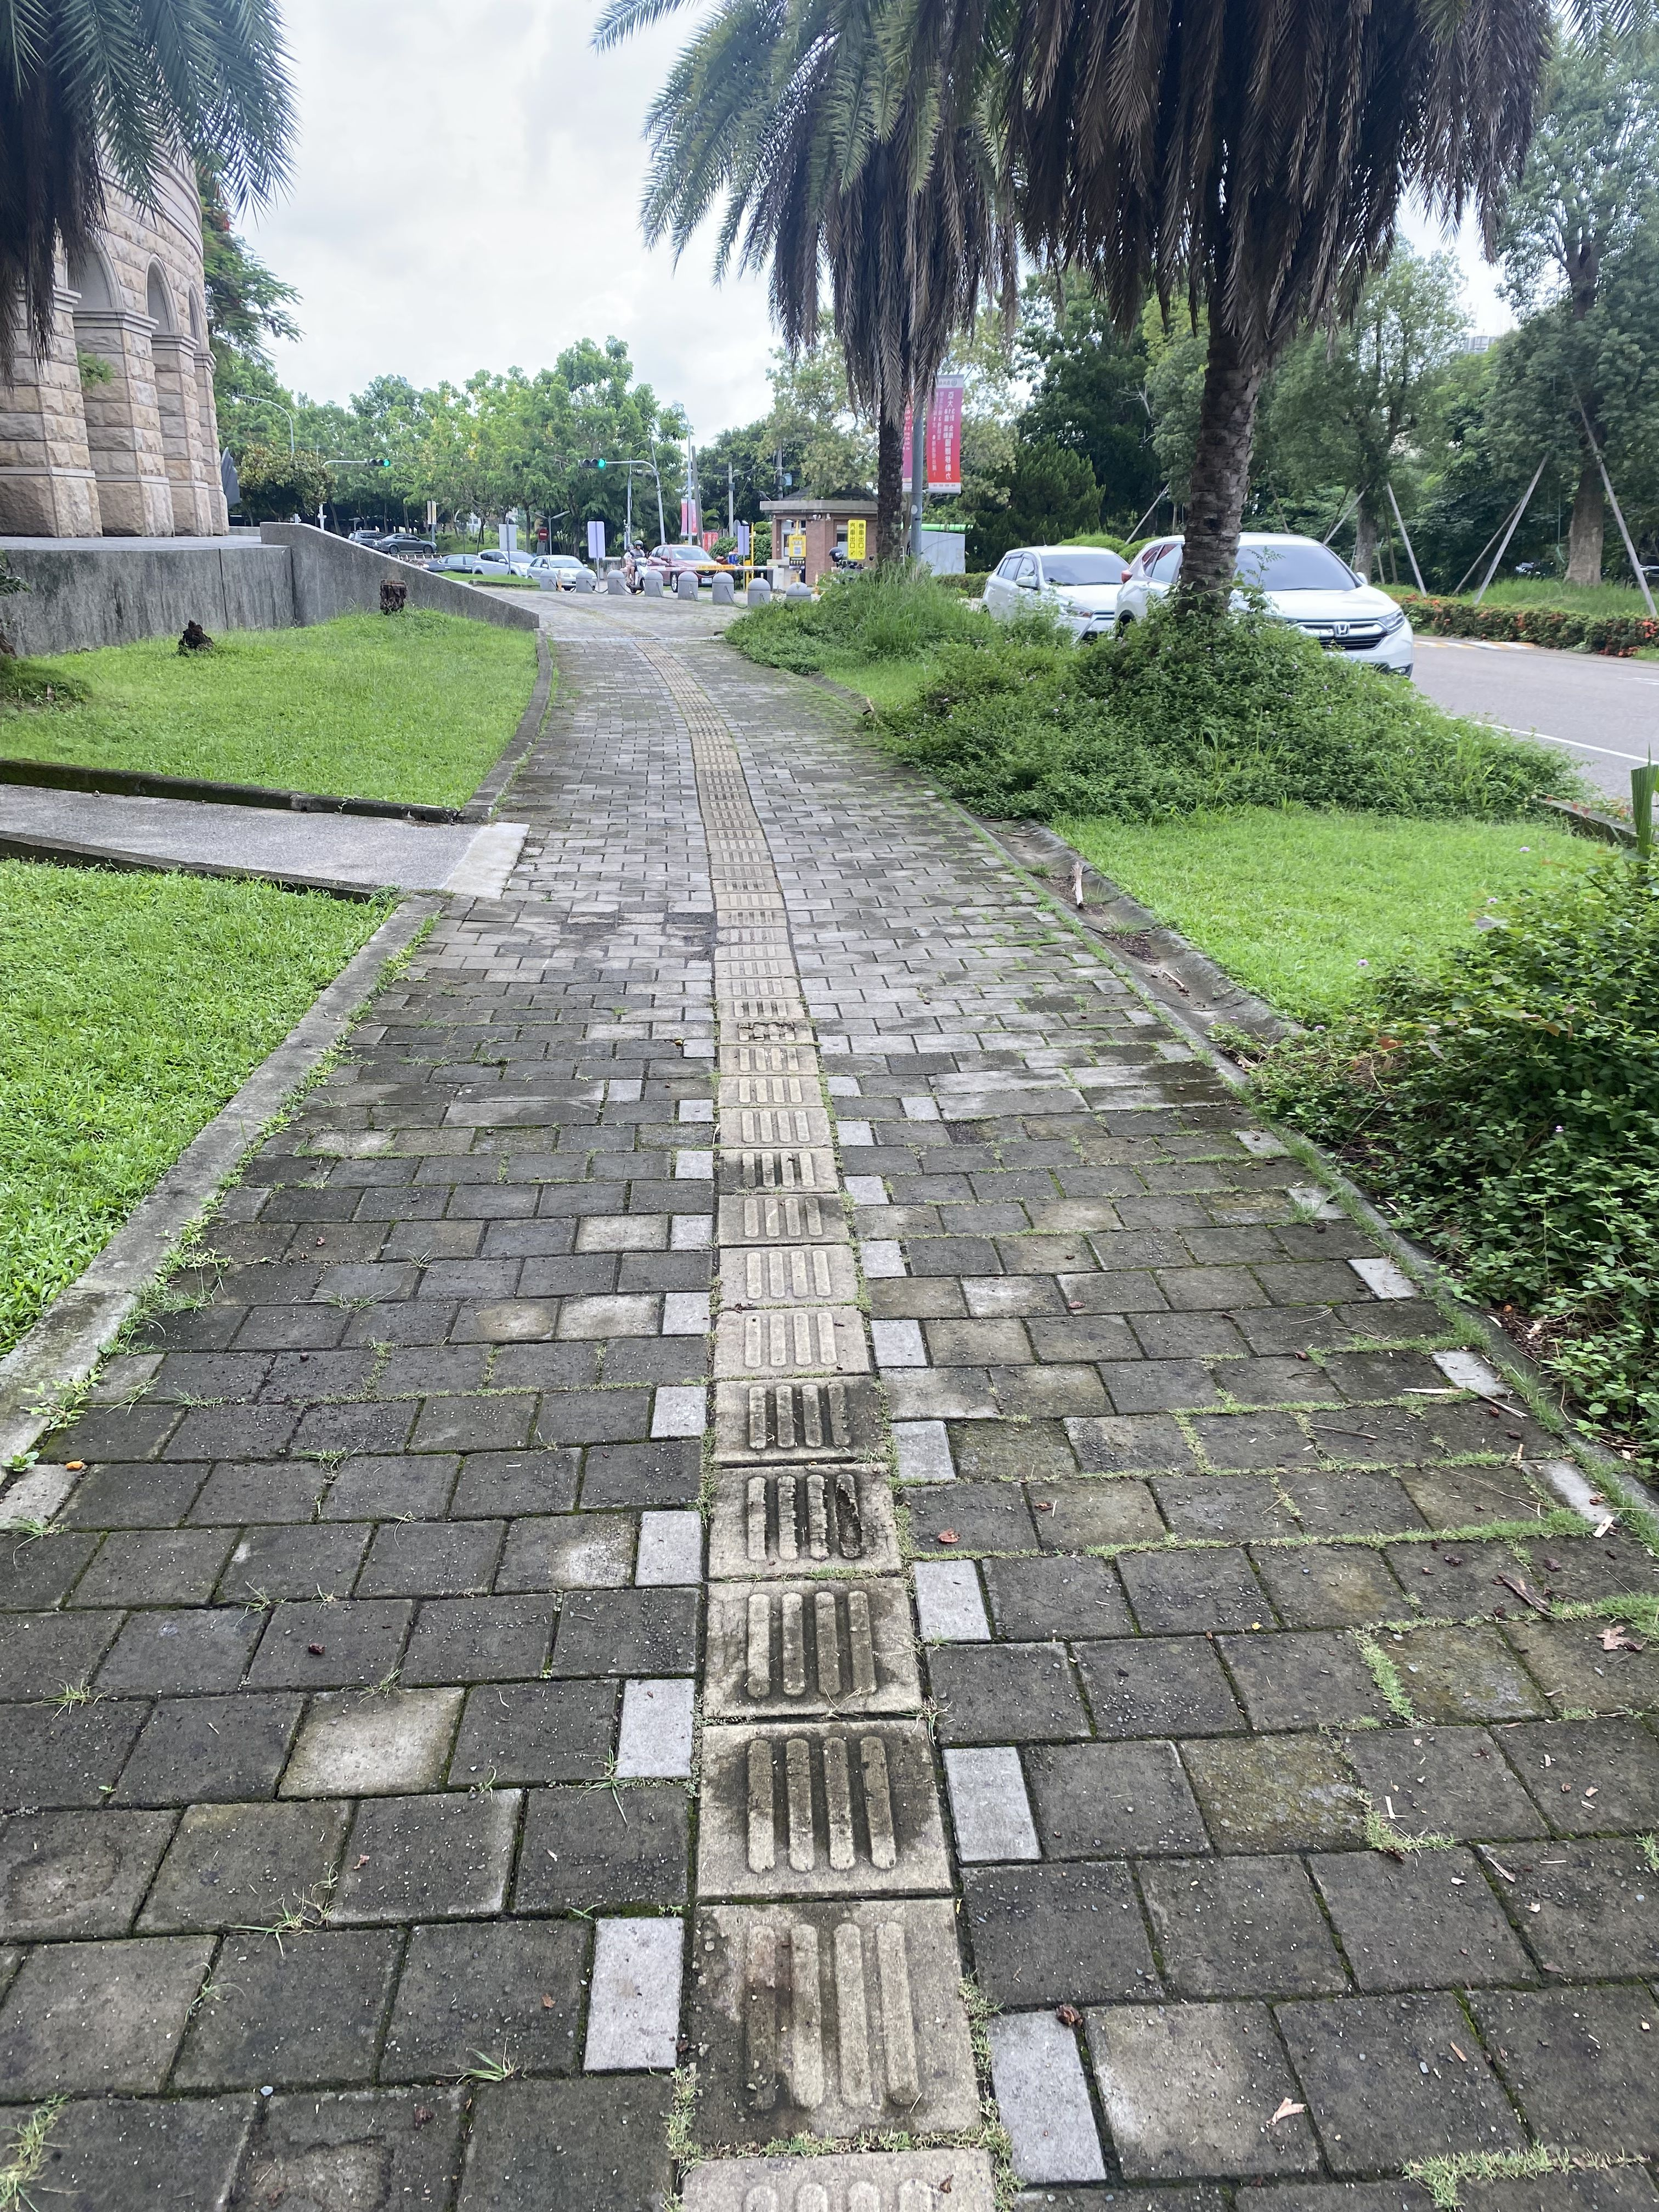0: (0, 869, 1659, 2212)
sidewalk: (490, 589, 1101, 1533)
